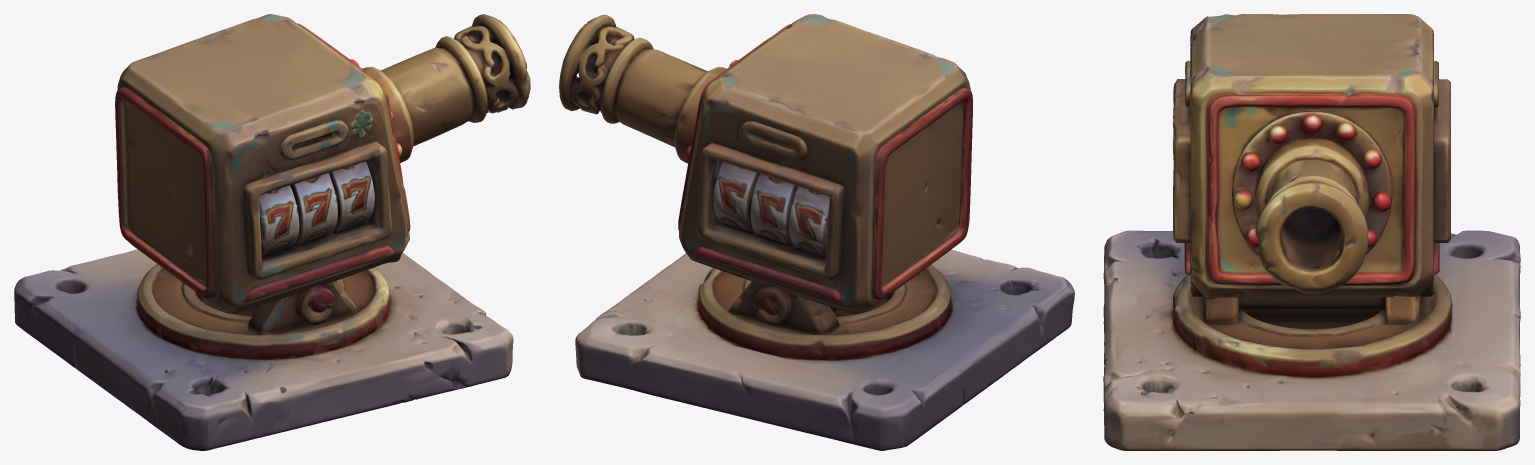
The model's file is blaster_jackpot.glb.
The picture shows the model from 3 angles, left to right: view 1: azimuth 30°, elevation 25°; view 2: azimuth 150°, elevation 25°; view 3: azimuth 270°, elevation 25°; orthographic projection. The views are drawn at different scales.
Parts seen in each view (by area): view 1: tripo_part_1, tripo_part_0, tripo_part_2, tripo_part_4, tripo_part_6, tripo_part_3, tripo_part_8, tripo_part_18, tripo_part_17, tripo_part_15, tripo_part_11; view 2: tripo_part_1, tripo_part_0, tripo_part_2, tripo_part_14, tripo_part_6, tripo_part_3, tripo_part_12, tripo_part_9, tripo_part_10, tripo_part_13, tripo_part_16; view 3: tripo_part_0, tripo_part_1, tripo_part_2, tripo_part_3, tripo_part_5, tripo_part_6, tripo_part_7, tripo_part_4, tripo_part_14, tripo_part_12, tripo_part_8.
Boxes of the visible parts, bbox=[...] form: tripo_part_1: bbox=[115, 14, 410, 313]; tripo_part_0: bbox=[14, 249, 513, 450]; tripo_part_2: bbox=[135, 264, 394, 360]; tripo_part_4: bbox=[243, 141, 391, 279]; tripo_part_6: bbox=[362, 48, 474, 162]; tripo_part_3: bbox=[435, 14, 530, 122]; tripo_part_8: bbox=[247, 280, 358, 335]; tripo_part_18: bbox=[290, 173, 338, 245]; tripo_part_17: bbox=[329, 161, 374, 233]; tripo_part_15: bbox=[259, 185, 299, 257]; tripo_part_11: bbox=[280, 120, 348, 159]; tripo_part_1: bbox=[678, 14, 972, 313]; tripo_part_0: bbox=[575, 249, 1074, 450]; tripo_part_2: bbox=[695, 264, 956, 361]; tripo_part_14: bbox=[696, 143, 844, 280]; tripo_part_6: bbox=[612, 49, 726, 163]; tripo_part_3: bbox=[559, 14, 653, 123]; tripo_part_12: bbox=[730, 281, 839, 334]; tripo_part_9: bbox=[750, 174, 797, 246]; tripo_part_10: bbox=[713, 162, 759, 235]; tripo_part_13: bbox=[789, 186, 829, 257]; tripo_part_16: bbox=[739, 121, 807, 160]; tripo_part_0: bbox=[1103, 230, 1520, 450]; tripo_part_1: bbox=[1184, 14, 1439, 299]; tripo_part_2: bbox=[1172, 274, 1453, 376]; tripo_part_3: bbox=[1255, 176, 1368, 293]; tripo_part_5: bbox=[1232, 109, 1392, 255]; tripo_part_6: bbox=[1255, 137, 1368, 219]; tripo_part_7: bbox=[1238, 297, 1385, 322]; tripo_part_4: bbox=[1173, 79, 1190, 242]; tripo_part_14: bbox=[1434, 79, 1450, 242]; tripo_part_12: bbox=[1385, 280, 1433, 325]; tripo_part_8: bbox=[1190, 279, 1239, 325].
Size of the model in its own units: 0.9793 by 0.6447 by 0.7623.
Materials: 1 (1 with a texture image).
